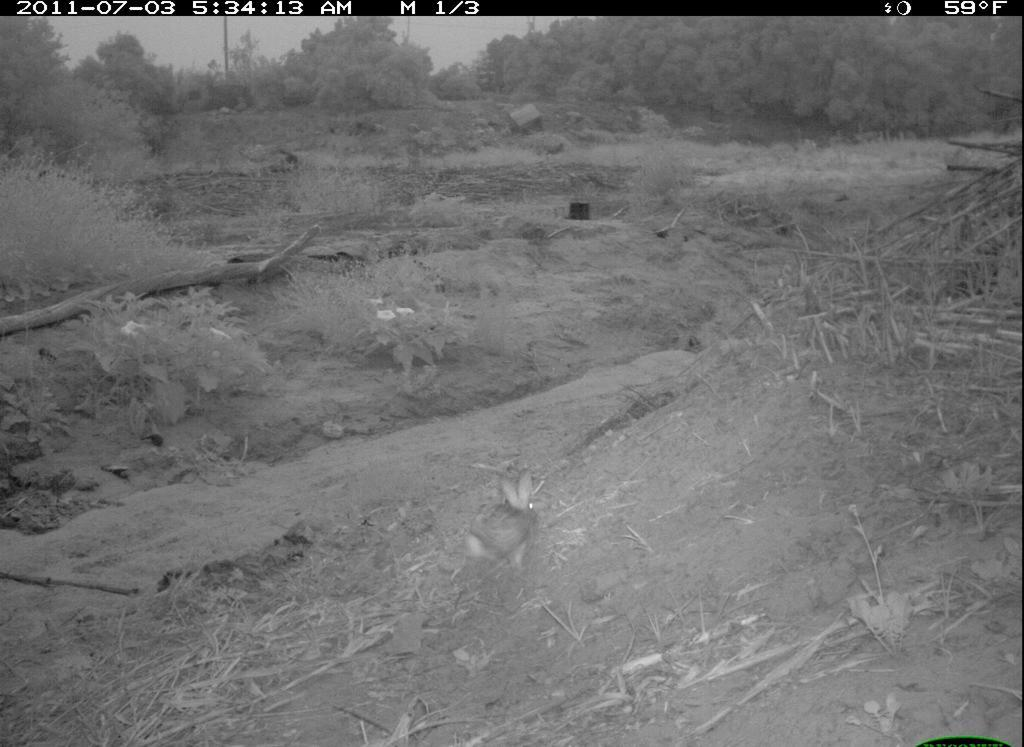rabbit: (457, 466, 543, 574)
